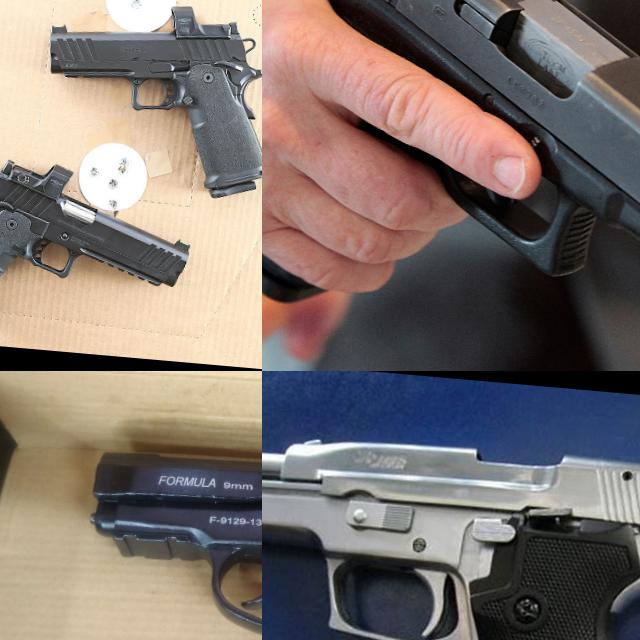handgun: (262, 0, 640, 339), (262, 410, 640, 640), (35, 0, 262, 206), (62, 433, 262, 640), (0, 146, 199, 351)
